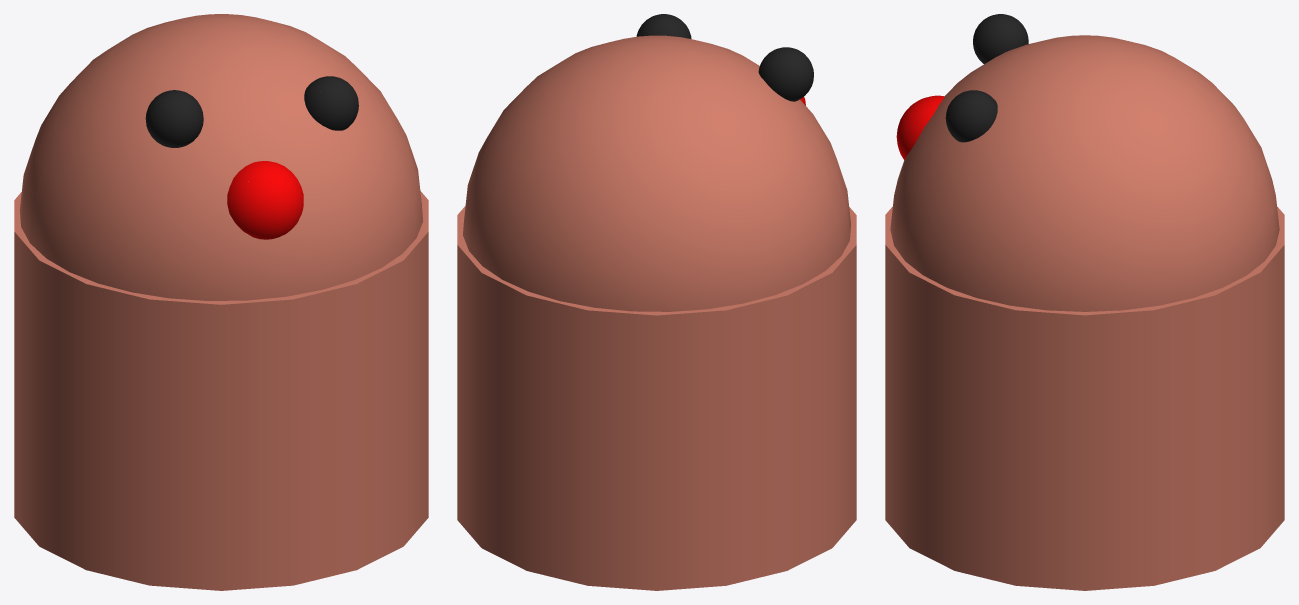
Rendered from moguri.FBX.
3 renders of one model, left to right at view 1: azimuth 30°, elevation 25°; view 2: azimuth 150°, elevation 25°; view 3: azimuth 270°, elevation 25°, orthographic. The views are drawn at different scales.
Visible parts, largest first — view 1: Cylinder001, Sphere001, Sphere002, Sphere003, Sphere004; view 2: Cylinder001, Sphere001, Sphere003, Sphere004; view 3: Cylinder001, Sphere001, Sphere004, Sphere003, Sphere002.
Boxes of the visible parts, <box> form: Cylinder001: <box>14,191,428,590</box>; Sphere001: <box>19,14,423,300</box>; Sphere002: <box>227,161,303,239</box>; Sphere003: <box>145,90,203,147</box>; Sphere004: <box>304,76,358,130</box>; Cylinder001: <box>457,206,856,590</box>; Sphere001: <box>463,35,850,311</box>; Sphere003: <box>758,47,813,101</box>; Sphere004: <box>636,14,691,38</box>; Cylinder001: <box>885,206,1284,590</box>; Sphere001: <box>890,35,1279,311</box>; Sphere004: <box>945,90,997,142</box>; Sphere003: <box>973,14,1028,63</box>; Sphere002: <box>896,95,944,160</box>.
Bounding box in the file's own units: 20 × 19.7 × 24.6.
